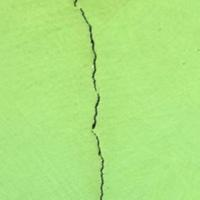crack: (69, 0, 123, 199)
